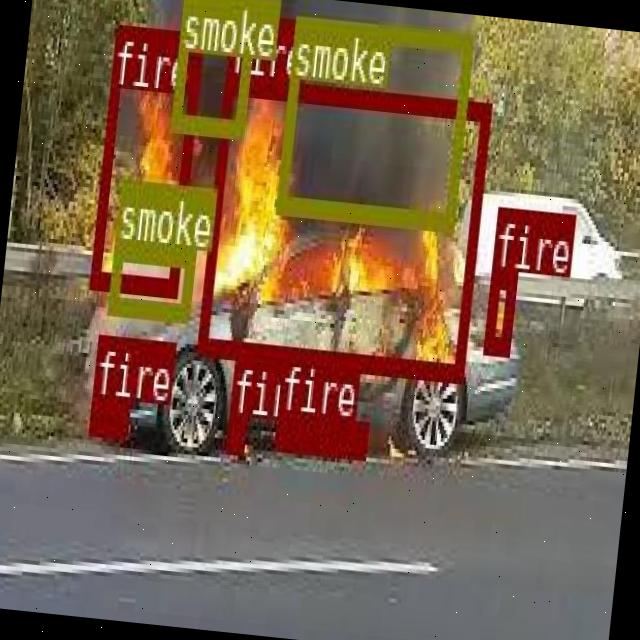fire: (196, 72, 491, 377), (88, 24, 202, 292), (274, 411, 366, 457), (482, 268, 516, 350), (87, 394, 129, 436), (224, 413, 246, 453)
smoke: (276, 12, 472, 227), (169, 0, 255, 133), (106, 241, 194, 320)
